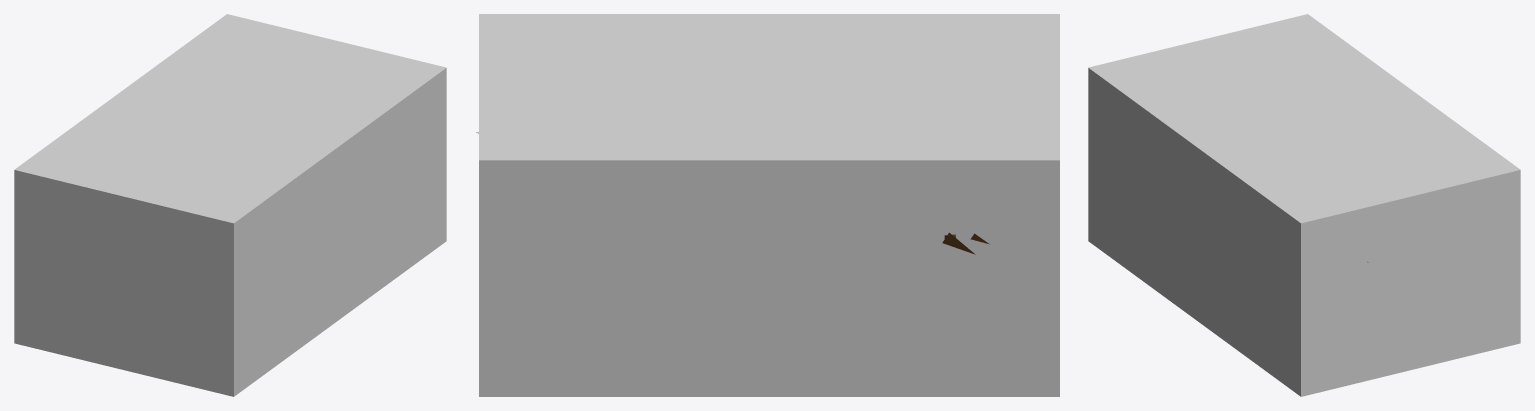
The model's file is desert_royal_eagle.fbx.
3 renders of one model, left to right at view 1: azimuth 30°, elevation 25°; view 2: azimuth 150°, elevation 25°; view 3: azimuth 270°, elevation 25°, orthographic. The views are drawn at different scales.
Visible parts, largest first — view 1: Root__0.00_2.00_-0.01__8.89_4.00_5.30; view 2: Root__0.00_2.00_-0.01__8.89_4.00_5.30; view 3: Root__0.00_2.00_-0.01__8.89_4.00_5.30.
Boxes of the visible parts, x1,y1,x2,y2 form: Root__0.00_2.00_-0.01__8.89_4.00_5.30: [14, 14, 446, 396]; Root__0.00_2.00_-0.01__8.89_4.00_5.30: [479, 14, 1059, 396]; Root__0.00_2.00_-0.01__8.89_4.00_5.30: [1088, 14, 1520, 396].
Bounding box in the file's own units: 290 × 112 × 253.
1 material, 1 textured.
